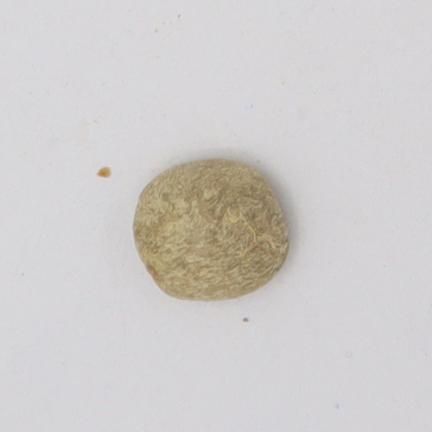immature: (133, 160, 288, 300)
